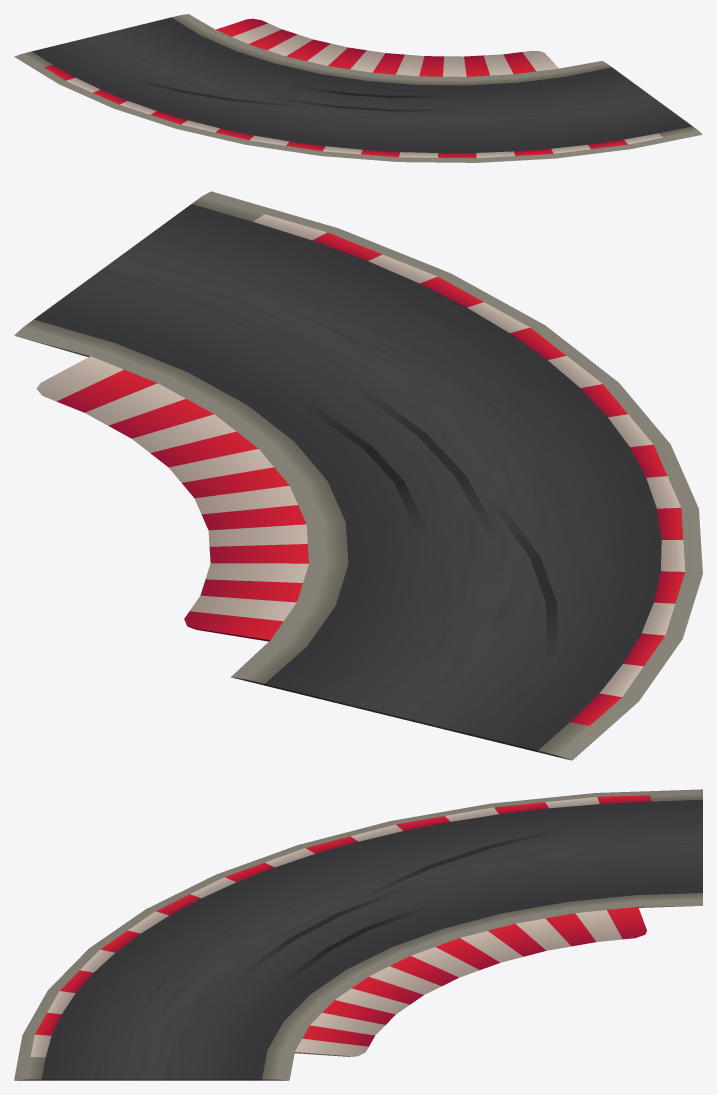
The picture shows the model from 3 angles, top to bottom: view 1: azimuth 30°, elevation 25°; view 2: azimuth 150°, elevation 25°; view 3: azimuth 270°, elevation 25°; orthographic projection. The views are drawn at different scales.
Parts seen in each view (by area): view 1: Curve_1C, Curve_1C_Skidmarks; view 2: Curve_1C, Curve_1C_Skidmarks; view 3: Curve_1C, Curve_1C_Skidmarks.
Boxes of the visible parts, <box> form: Curve_1C: <box>14,14,702,162</box>; Curve_1C_Skidmarks: <box>117,75,466,111</box>; Curve_1C: <box>14,191,702,760</box>; Curve_1C_Skidmarks: <box>302,380,557,665</box>; Curve_1C: <box>14,789,702,1080</box>; Curve_1C_Skidmarks: <box>237,825,577,980</box>.
Size of the model in its own units: 5000 by 10.85 by 5000.
